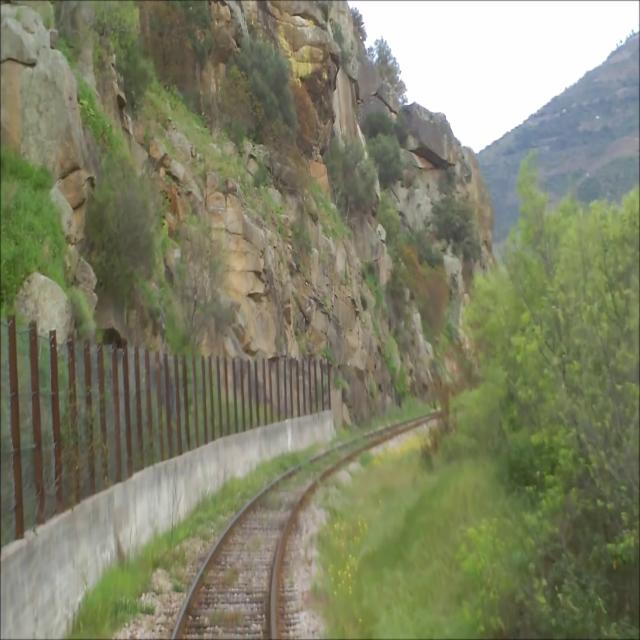rail-track: (176, 436, 373, 639)
